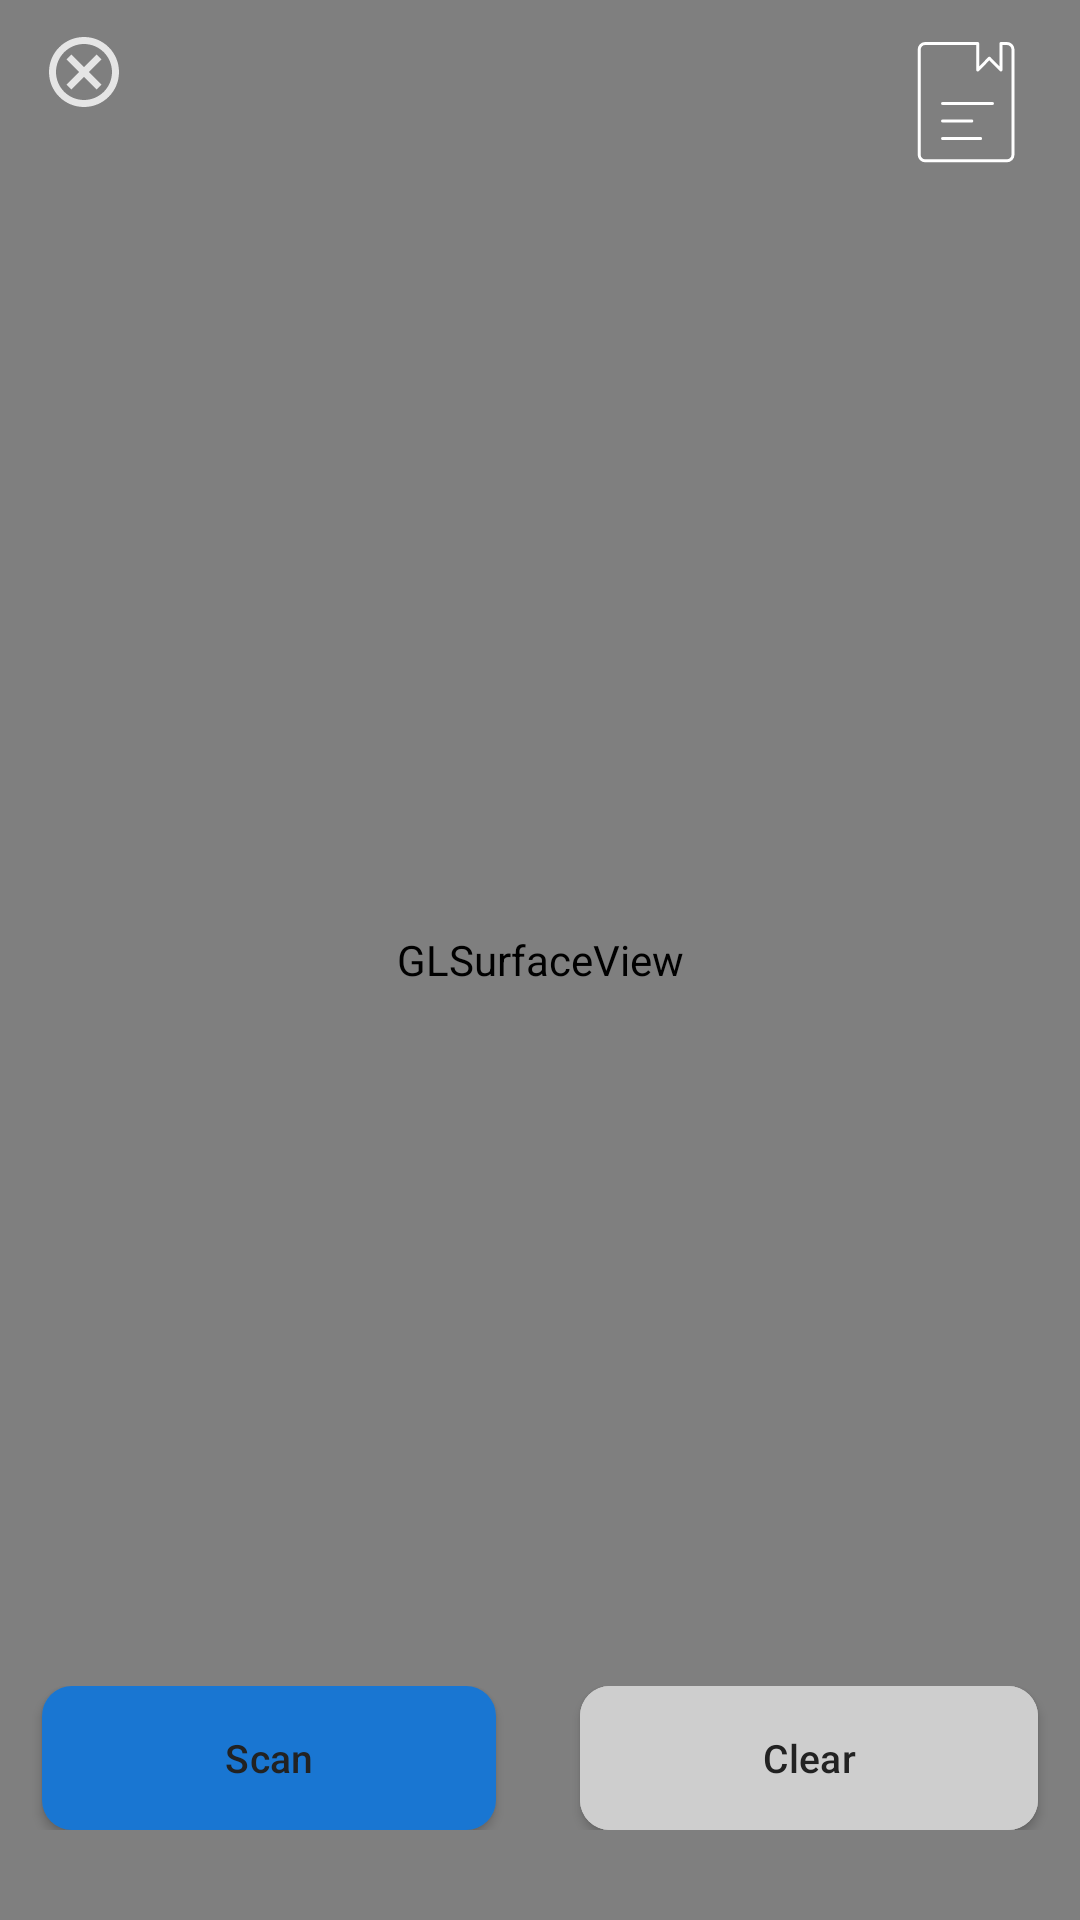

Where icons sit on this 1080px×1920px app screen, as (x1, y1, x2, y2):
close: (49, 37, 119, 107)
save bookmark: (917, 42, 1015, 163)
